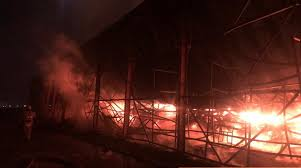fire: (106, 85, 300, 150)
